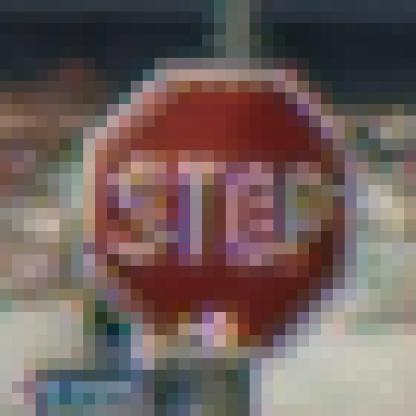Stop: (81, 73, 347, 357)
